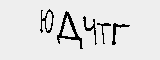Г: (110, 22, 132, 47)
Д: (55, 8, 83, 49)
Т: (96, 21, 110, 46)
Ч: (83, 17, 100, 44)
Ю: (38, 10, 56, 35)
